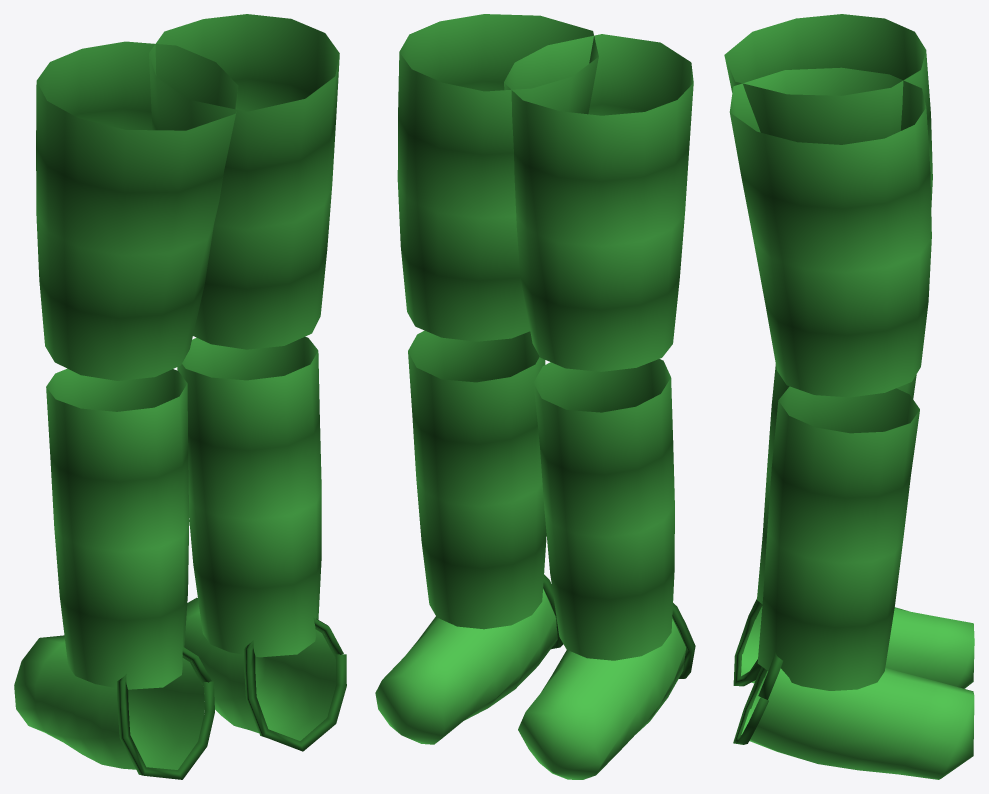
The model's file is chlorophyte_greaves.glb.
The picture shows the model from 3 angles, left to right: view 1: azimuth 30°, elevation 25°; view 2: azimuth 150°, elevation 25°; view 3: azimuth 270°, elevation 25°; orthographic projection. The views are drawn at different scales.
Visible parts, largest first — view 1: chlorophyte_greaves_cuisse.L; view 2: chlorophyte_greaves_cuisse.L; view 3: chlorophyte_greaves_cuisse.L.
Boxes of the visible parts, left/top/right/bottom form: chlorophyte_greaves_cuisse.L: left=14, top=14, right=346, bottom=779; chlorophyte_greaves_cuisse.L: left=375, top=14, right=695, bottom=779; chlorophyte_greaves_cuisse.L: left=724, top=14, right=974, bottom=779.
Size of the model in its own units: 0.403 by 0.9485 by 0.3253.
